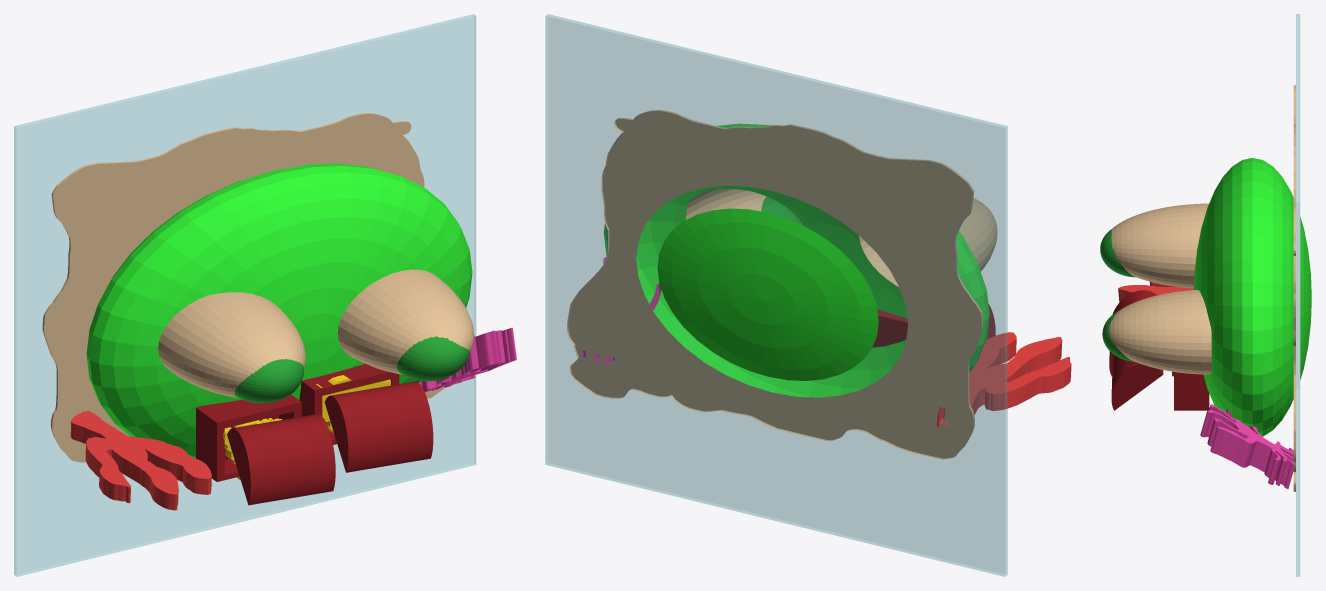
Rendered from tinker.obj.
3 renders of one model, left to right at view 1: azimuth 30°, elevation 25°; view 2: azimuth 150°, elevation 25°; view 3: azimuth 270°, elevation 25°, orthographic. The views are drawn at different scales.
Visible parts, largest first — view 1: group_0_-1032466725, group_0_3143476, group_0_14860437, group_0_9771553, group_0_15416893, group_0_2532149, group_0_15746733, group_0_16768282; view 2: group_0_-1032466725, group_0_14860437, group_0_3143476, group_0_15416893, group_0_9771553; view 3: group_0_3143476, group_0_14860437, group_0_15746733, group_0_9771553, group_0_-1032466725, group_0_2532149, group_0_15416893.
Boxes of the visible parts, <box> form: group_0_-1032466725: <box>14,14,475,576</box>; group_0_3143476: <box>86,163,472,458</box>; group_0_14860437: <box>42,113,474,462</box>; group_0_9771553: <box>196,363,433,505</box>; group_0_15416893: <box>70,411,211,510</box>; group_0_2532149: <box>234,336,469,403</box>; group_0_15746733: <box>419,327,516,392</box>; group_0_16768282: <box>223,375,390,464</box>; group_0_-1032466725: <box>545,14,1007,576</box>; group_0_14860437: <box>567,110,997,459</box>; group_0_3143476: <box>604,123,989,397</box>; group_0_15416893: <box>937,332,1071,427</box>; group_0_9771553: <box>872,304,995,347</box>; group_0_3143476: <box>1193,158,1311,436</box>; group_0_14860437: <box>1108,85,1295,491</box>; group_0_15746733: <box>1200,404,1293,488</box>; group_0_9771553: <box>1109,290,1209,410</box>; group_0_-1032466725: <box>1296,14,1299,576</box>; group_0_2532149: <box>1100,229,1135,361</box>; group_0_15416893: <box>1118,282,1193,301</box>.
Size of the model in its own units: 195 by 182 by 93.
